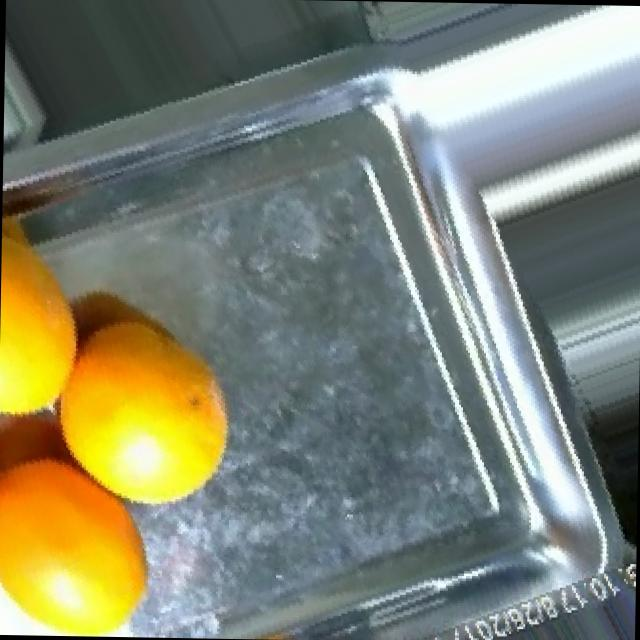Fruit: (64, 320, 252, 530)
